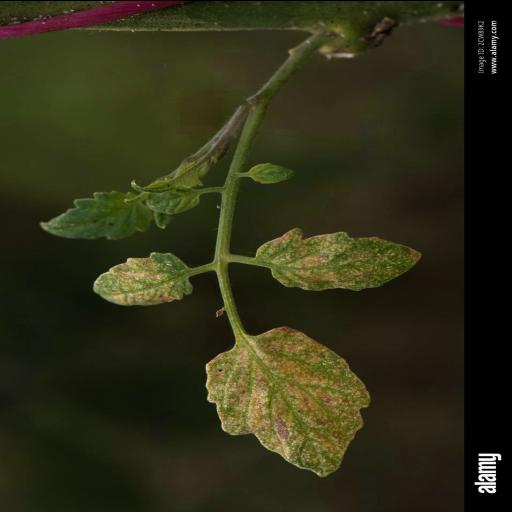disease_tomato: (204, 324, 376, 480), (253, 226, 425, 294), (91, 250, 197, 305)
